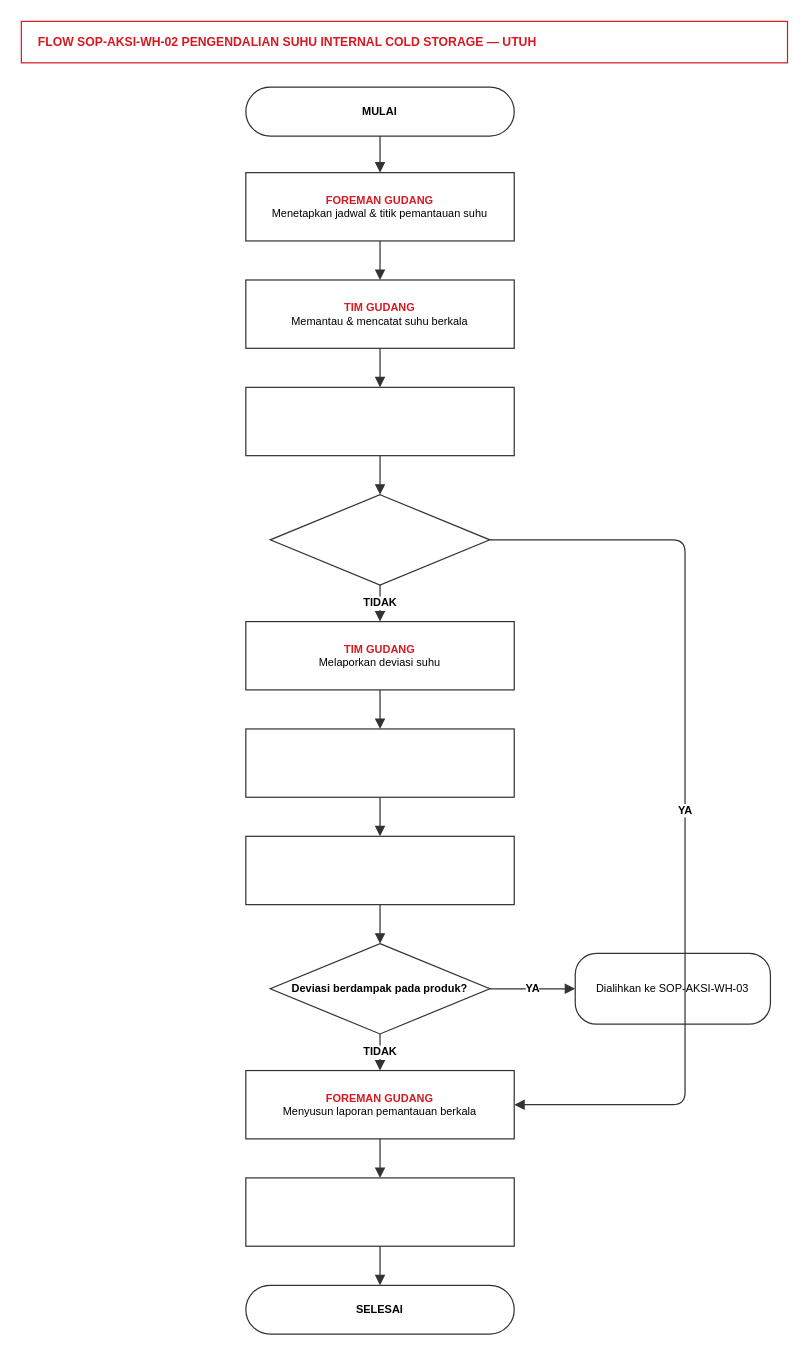
This 809x1355 diagram has some shape labels left out. Here are the shapes that lost their labels. From the top down, the centre of each, then its label:
At (379,421): "ADMIN GUDANG Merekap data suhu ke log".
At (379,539): "Suhu dalam batas standar?".
At (379,762): "FOREMAN GUDANG Tindakan awal & menghubungi Teknik".
At (379,870): "TEKNIK Memeriksa & memperbaiki unit pendingin".
At (379,1211): "FOREMAN GUDANG Mengarsipkan log & laporan deviasi".
